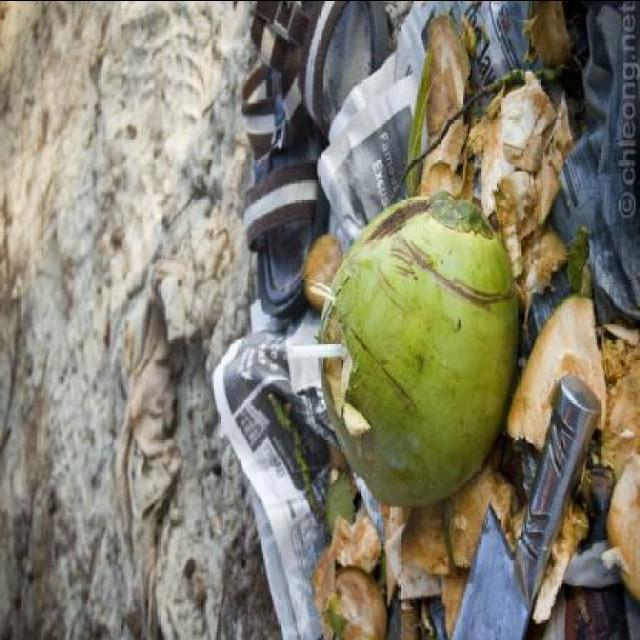Coconut: (316, 186, 522, 508)
